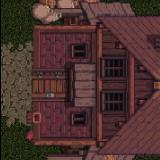Interaction: (0, 12, 43, 82)
Obstacle: (0, 0, 160, 160)
